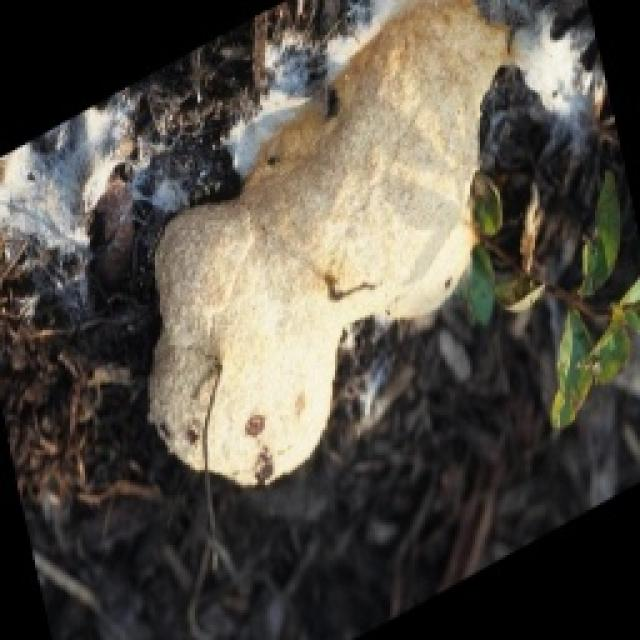Dog_vomit_slime_mold: (140, 0, 630, 492)
